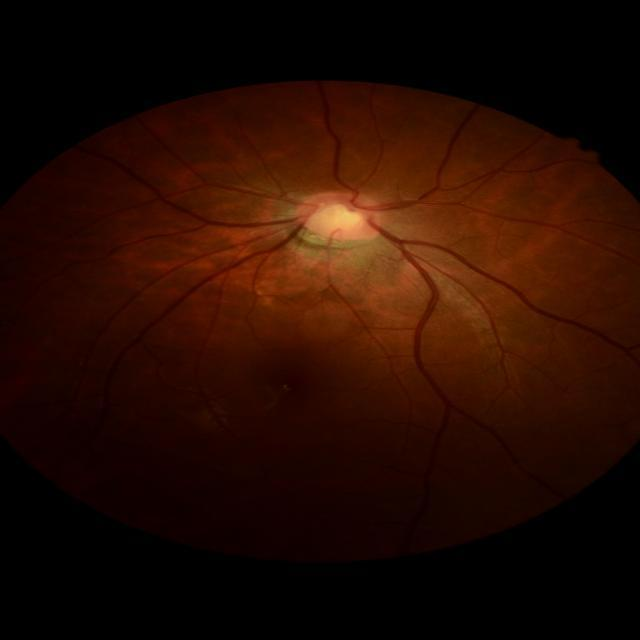cup: (306, 201, 368, 231)
disk: (295, 190, 383, 238)
